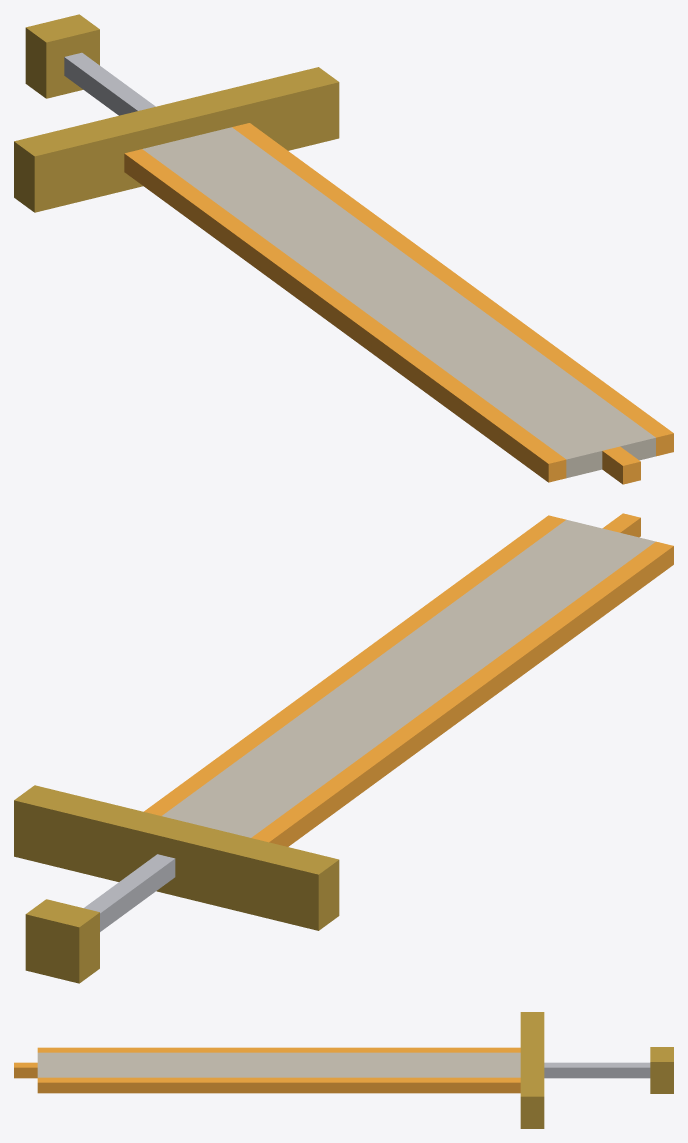
File: vox_great_titan_star.glb
3 views of the same model, one above another, from view 1: azimuth 30°, elevation 25°; view 2: azimuth 150°, elevation 25°; view 3: azimuth 270°, elevation 25° (orthographic). The views are drawn at different scales.
Parts seen in each view (by area): view 1: vox_great_titan_star; view 2: vox_great_titan_star; view 3: vox_great_titan_star.
Part boxes in pixels (x1=…): vox_great_titan_star: x1=14, y1=14, x2=673, y2=484; vox_great_titan_star: x1=14, y1=513, x2=673, y2=983; vox_great_titan_star: x1=14, y1=1012, x2=673, y2=1128.
Bounding box in the file's own units: 0.3401 × 0.06 × 1.12.
